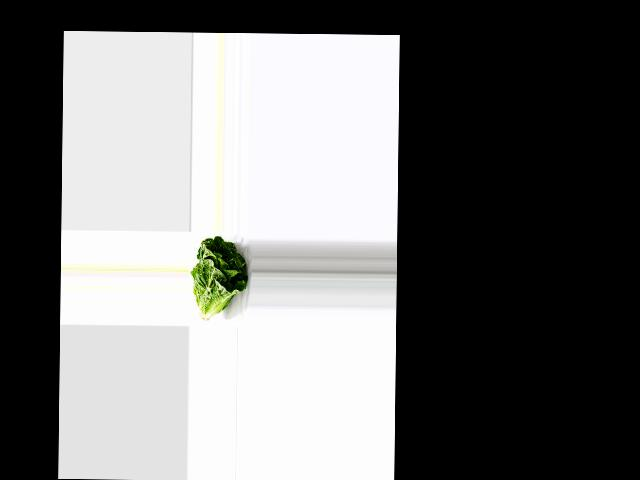lettuce: (189, 236, 249, 318)
